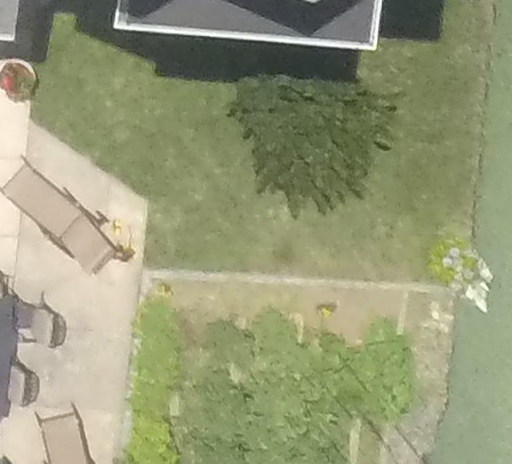chair: (1, 146, 139, 279)
container: (1, 58, 35, 103)
